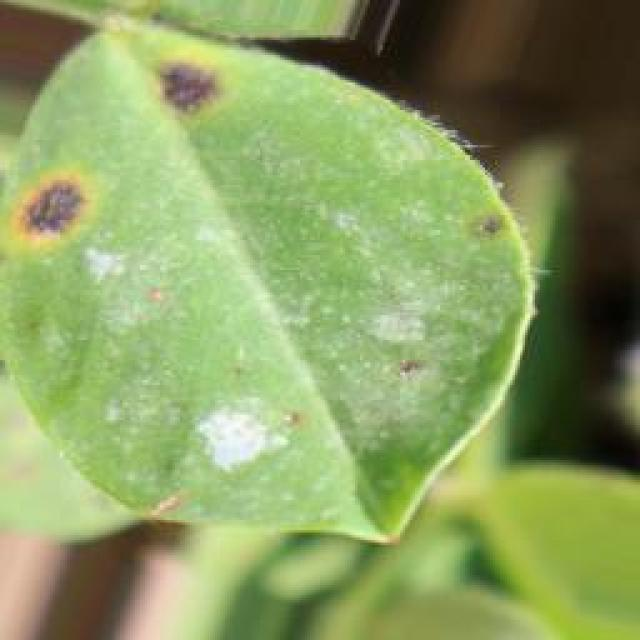Sigatoka: (10, 154, 116, 258), (128, 40, 218, 137), (252, 386, 345, 450), (392, 325, 445, 414), (453, 203, 512, 265), (136, 263, 193, 319)
